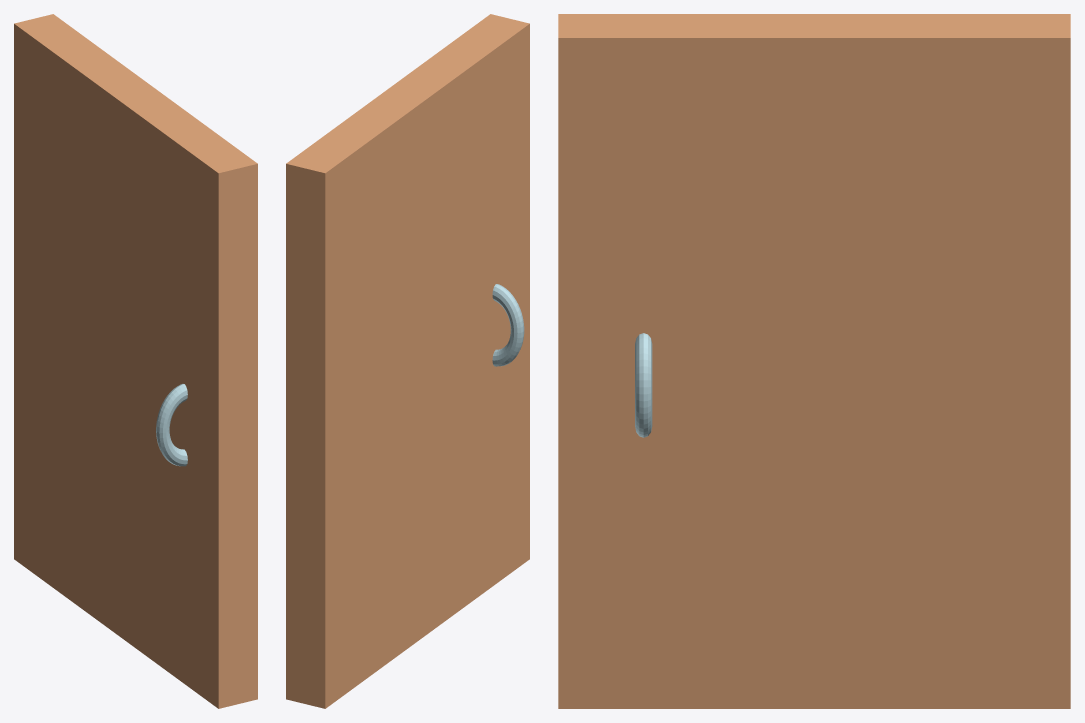
Rendered from Door.fbx.
3 views of the same model, side by side, from view 1: azimuth 30°, elevation 25°; view 2: azimuth 150°, elevation 25°; view 3: azimuth 270°, elevation 25° (orthographic). The views are drawn at different scales.
Visible parts, largest first — view 1: Cube, Torus; view 2: Cube, Torus; view 3: Cube, Torus.001.
Boxes of the visible parts, bbox=[...] form: Cube: bbox=[14, 14, 257, 708]; Torus: bbox=[156, 384, 187, 466]; Cube: bbox=[286, 14, 529, 708]; Torus: bbox=[492, 284, 524, 366]; Cube: bbox=[558, 14, 1070, 708]; Torus.001: bbox=[635, 333, 652, 437].
Size of the model in its own units: 48 by 260 by 180.
